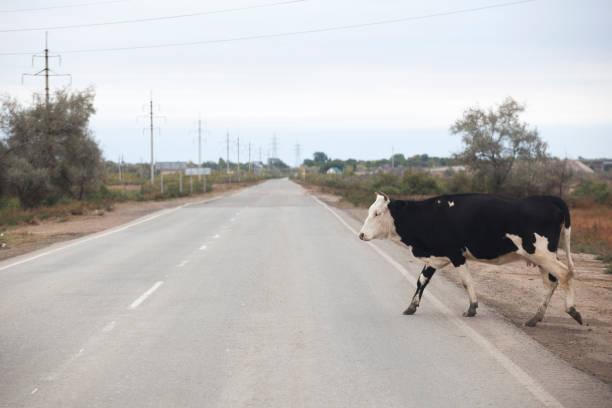inek: (355, 185, 596, 343)
